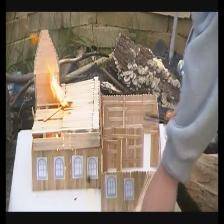fire: (48, 70, 69, 109)
